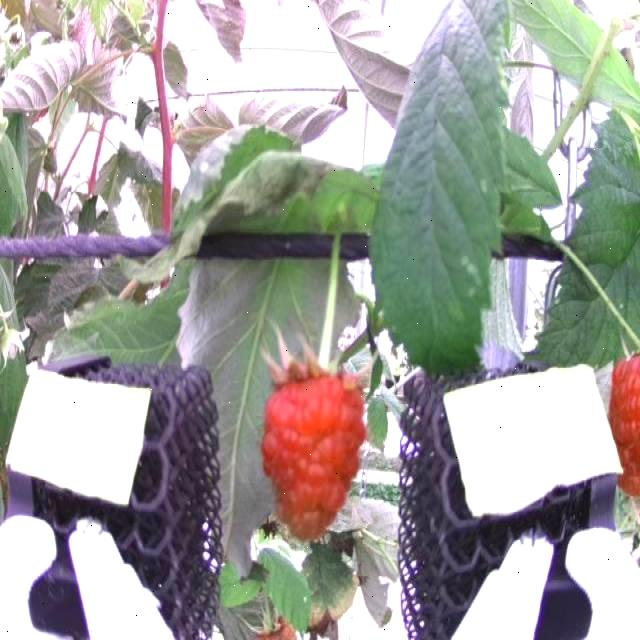Riped berries: (265, 344, 377, 532), (603, 346, 640, 486)
